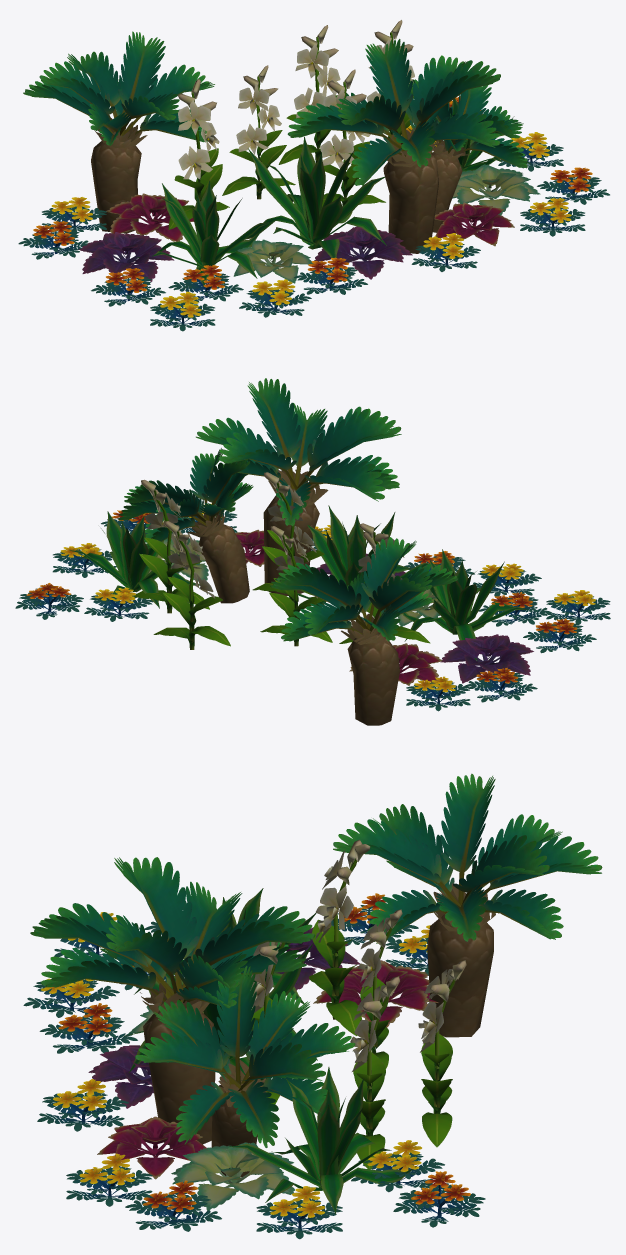
Rendered from flower-bed.glb.
3 renders of one model, top to bottom at view 1: azimuth 30°, elevation 25°; view 2: azimuth 150°, elevation 25°; view 3: azimuth 270°, elevation 25°, orthographic. The views are drawn at different scales.
Size of the model in its own units: 45.86 by 17.37 by 35.06.
8 materials, 8 textured.
